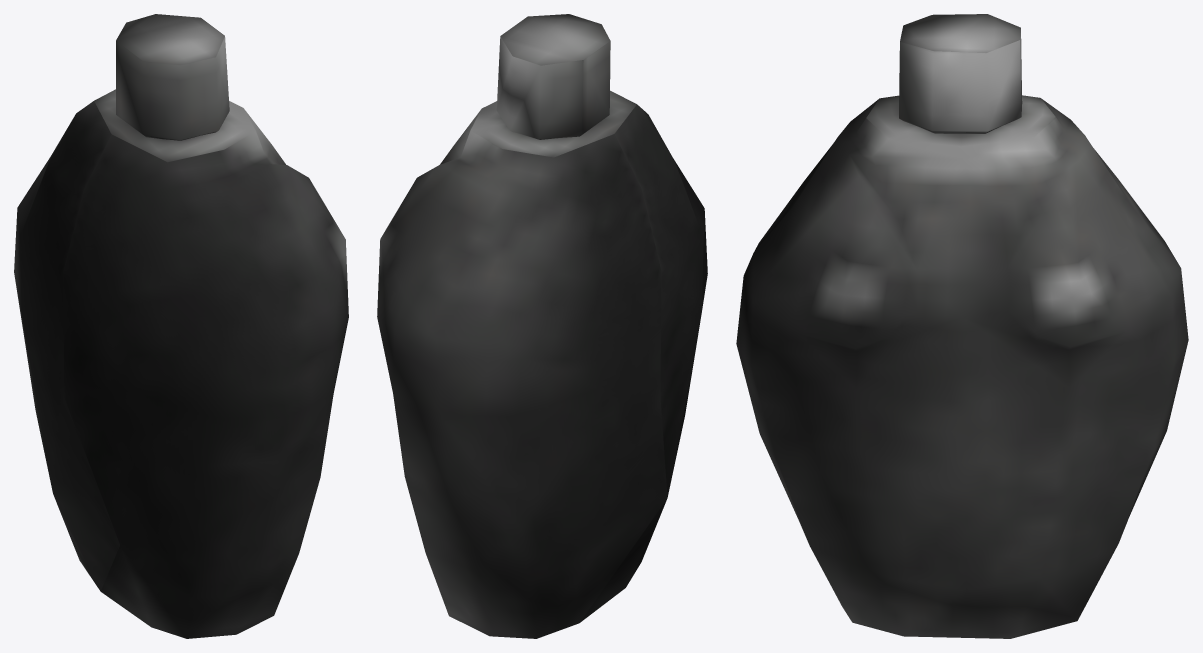
File: ModularCanteen_Ground.fbx
3 views of the same model, side by side, from view 1: azimuth 30°, elevation 25°; view 2: azimuth 150°, elevation 25°; view 3: azimuth 270°, elevation 25° (orthographic). The views are drawn at different scales.
Visible parts, largest first — view 1: ModernMilitaryBackpackSurvival.002; view 2: ModernMilitaryBackpackSurvival.002; view 3: ModernMilitaryBackpackSurvival.002.
Boxes of the visible parts, x1=… form: ModernMilitaryBackpackSurvival.002: x1=14, y1=14, x2=348, y2=638; ModernMilitaryBackpackSurvival.002: x1=377, y1=14, x2=707, y2=638; ModernMilitaryBackpackSurvival.002: x1=736, y1=14, x2=1188, y2=638.
Size of the model in its own units: 0.0588 by 0.1372 by 0.0971.
